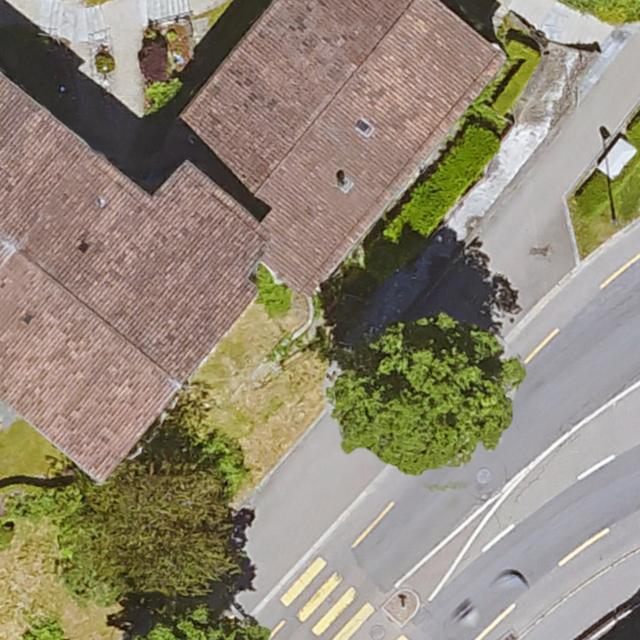tree: (331, 318, 514, 475), (82, 459, 233, 601), (128, 613, 273, 640), (142, 78, 184, 120)
